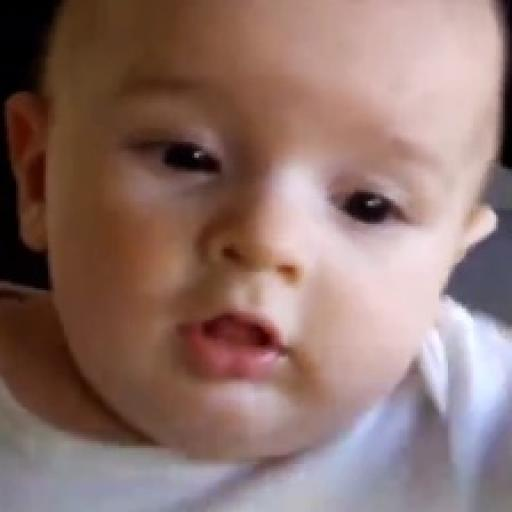Autism: (42, 1, 512, 471)
